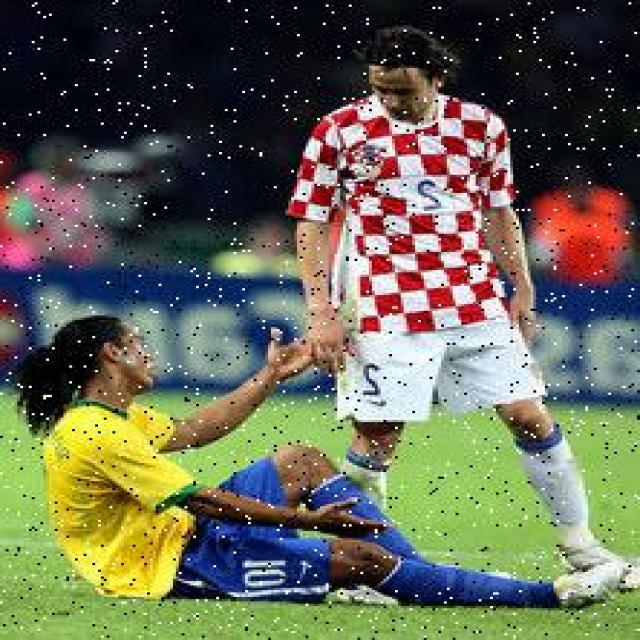fall: (52, 316, 516, 600)
